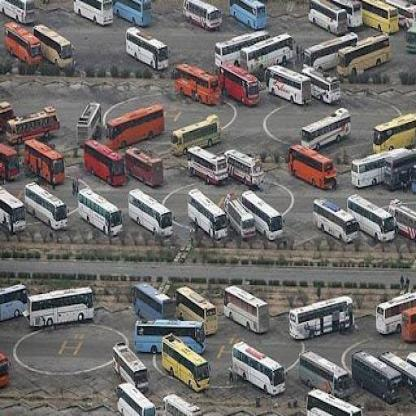Bus: (127, 317, 206, 362), (228, 335, 286, 394), (296, 349, 356, 402), (350, 348, 404, 406), (27, 286, 96, 330), (290, 298, 359, 341), (342, 192, 394, 247), (108, 98, 165, 148), (116, 30, 174, 78), (161, 335, 210, 390), (338, 28, 393, 73), (221, 282, 268, 334), (238, 35, 300, 74), (126, 279, 173, 330), (12, 92, 58, 144), (31, 22, 80, 70), (23, 181, 70, 229), (180, 191, 227, 239), (285, 142, 337, 185), (350, 149, 398, 195), (27, 131, 64, 190), (300, 108, 354, 148), (123, 194, 174, 236), (209, 30, 265, 68), (78, 190, 125, 235), (169, 68, 221, 107), (373, 108, 416, 155), (310, 204, 364, 240), (218, 66, 262, 109), (238, 191, 280, 235), (86, 137, 124, 185), (302, 36, 354, 71), (181, 282, 218, 330), (372, 290, 416, 330), (177, 116, 219, 156), (113, 342, 150, 386), (4, 14, 39, 60), (0, 185, 31, 235), (296, 58, 332, 101), (365, 0, 404, 39), (266, 71, 310, 105), (305, 0, 350, 33), (301, 393, 365, 416), (66, 0, 113, 30), (186, 150, 232, 180), (130, 146, 167, 182), (226, 148, 259, 188), (115, 384, 156, 416), (109, 0, 155, 28), (230, 0, 269, 31), (384, 196, 414, 235), (223, 198, 251, 236), (78, 103, 103, 144), (181, 0, 215, 30), (1, 288, 30, 322), (165, 391, 200, 416), (0, 0, 36, 24), (331, 0, 365, 19), (0, 346, 12, 394), (0, 147, 20, 170)
